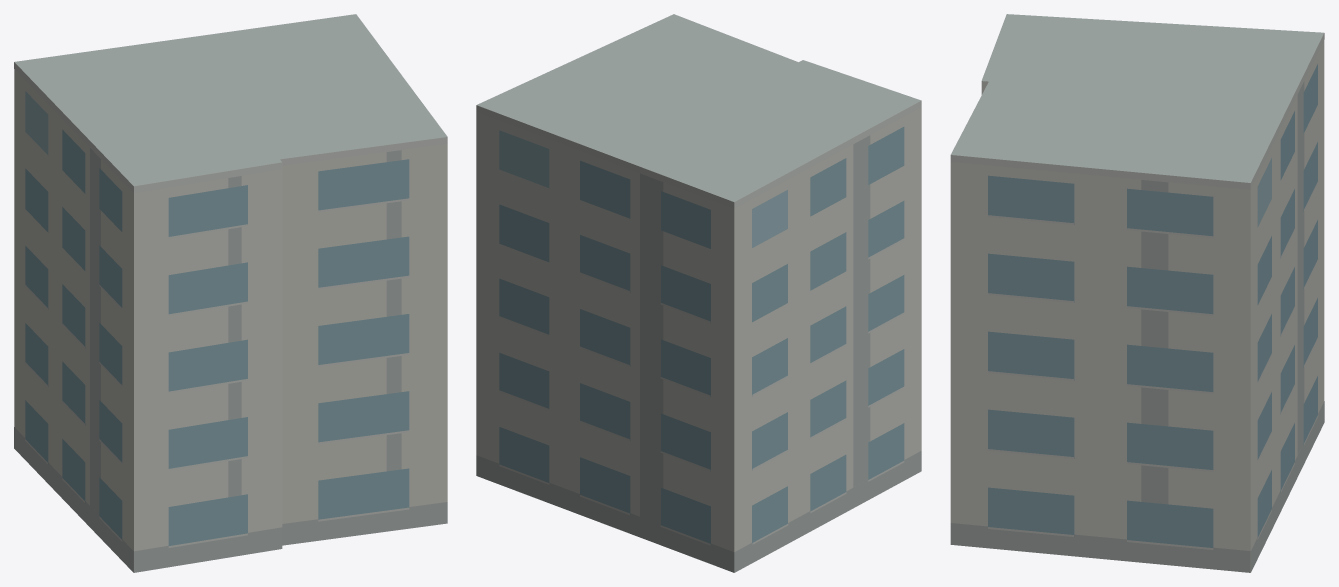
Rendered from survey-upis-32825729.glb.
The picture shows the model from 3 angles, left to right: view 1: azimuth 30°, elevation 25°; view 2: azimuth 150°, elevation 25°; view 3: azimuth 270°, elevation 25°; orthographic projection. The views are drawn at different scales.
Visible parts, largest first — view 1: survey-upis-32825729.tmp; view 2: survey-upis-32825729.tmp; view 3: survey-upis-32825729.tmp.
Boxes of the visible parts, x1,y1,x2,y2 form: survey-upis-32825729.tmp: (14, 14, 447, 572); survey-upis-32825729.tmp: (476, 14, 921, 572); survey-upis-32825729.tmp: (950, 14, 1324, 572).
Bounding box in the file's own units: 12.56 × 13.5 × 11.74.
